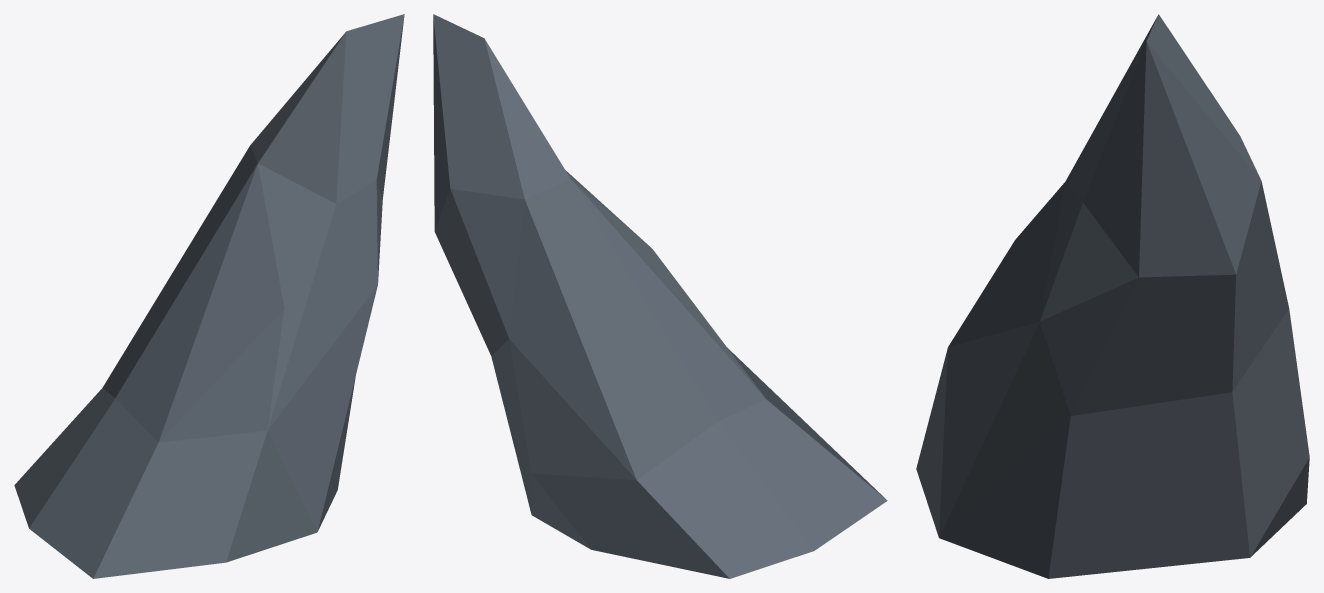
Rendered from Rock_Sharp_m_14.fbx.
The picture shows the model from 3 angles, left to right: view 1: azimuth 30°, elevation 25°; view 2: azimuth 150°, elevation 25°; view 3: azimuth 270°, elevation 25°; orthographic projection. The views are drawn at different scales.
Parts seen in each view (by area): view 1: Rock_Sharp_m_14; view 2: Rock_Sharp_m_14; view 3: Rock_Sharp_m_14.
Boxes of the visible parts, box(x1,y1,x2,y2) form: Rock_Sharp_m_14: box(14, 14, 404, 578); Rock_Sharp_m_14: box(433, 14, 887, 578); Rock_Sharp_m_14: box(916, 14, 1309, 578).
Bounding box in the file's own units: 145 × 157 × 91.94.
